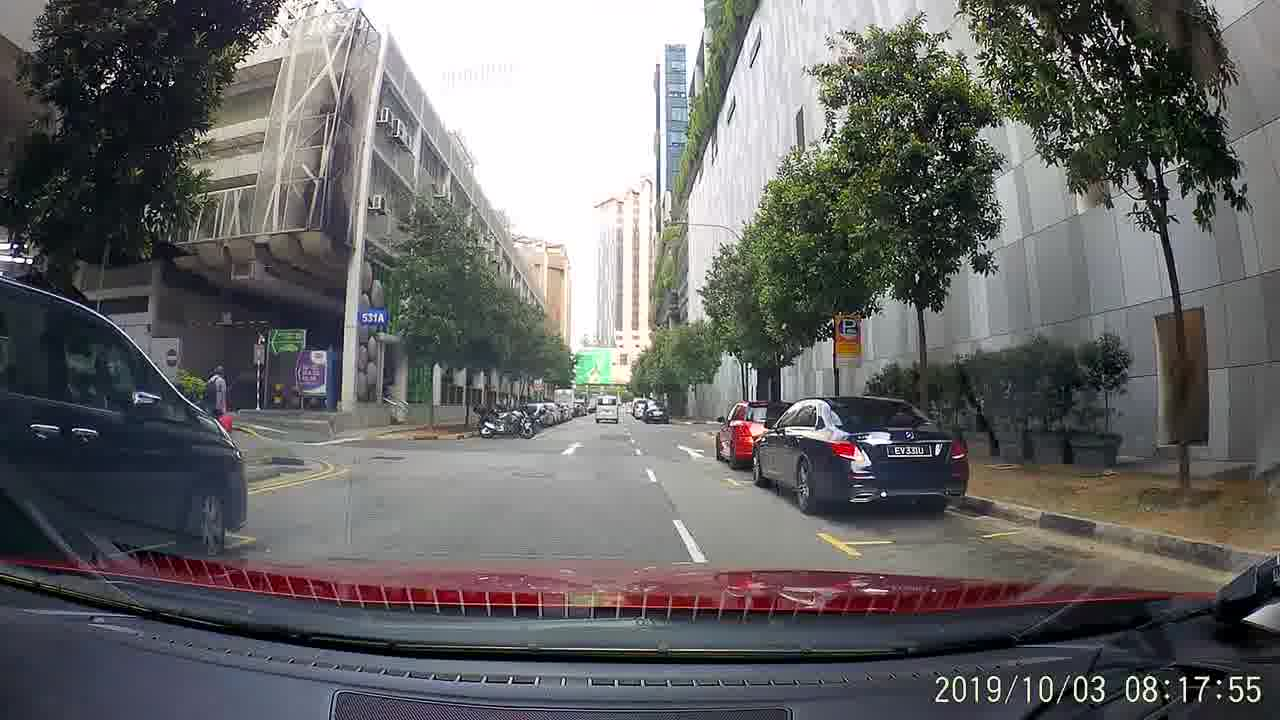car: (3, 273, 250, 557), (749, 392, 967, 519), (708, 401, 793, 471), (641, 401, 671, 427)
